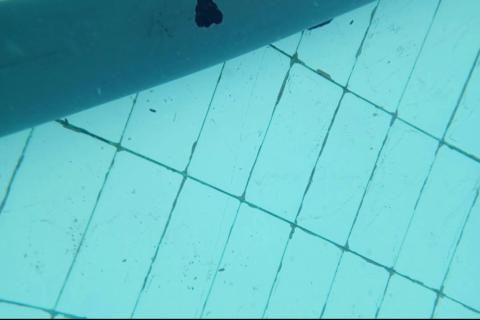kebocoran: (193, 0, 223, 30)
